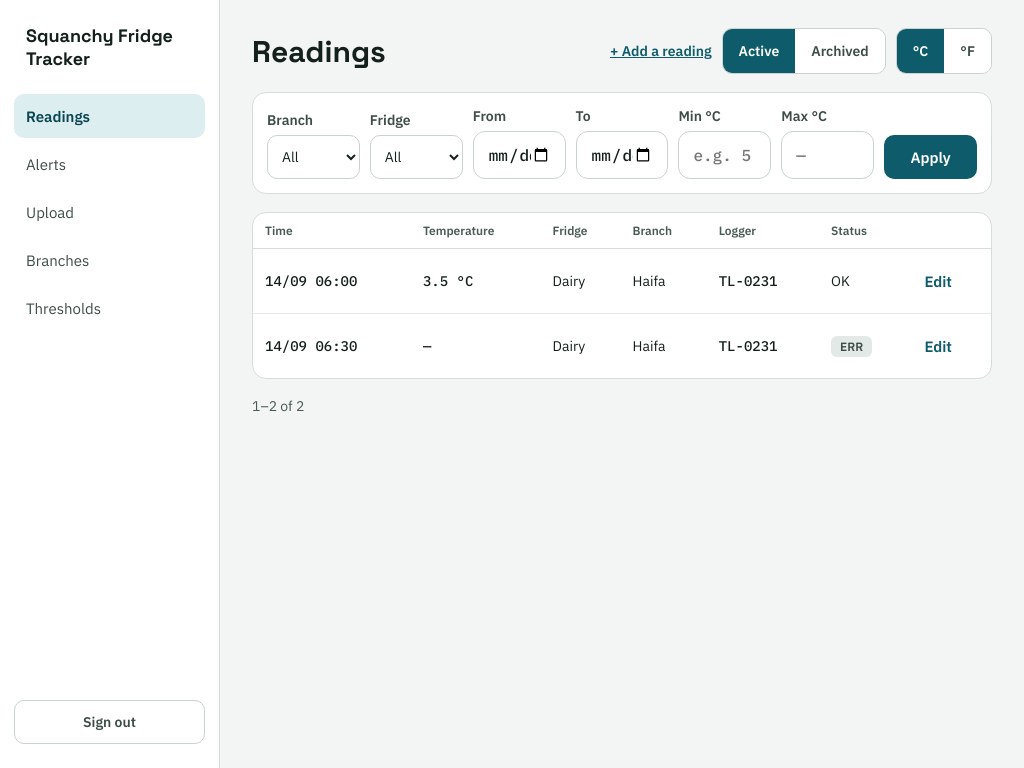
Scenario: ReadingsPage paging › links to adding a reading
The width and height of the screenshot is (1024, 768).
Click the link "+ Add a reading" at (661, 51), box x1=610 y1=42 x2=712 y2=60
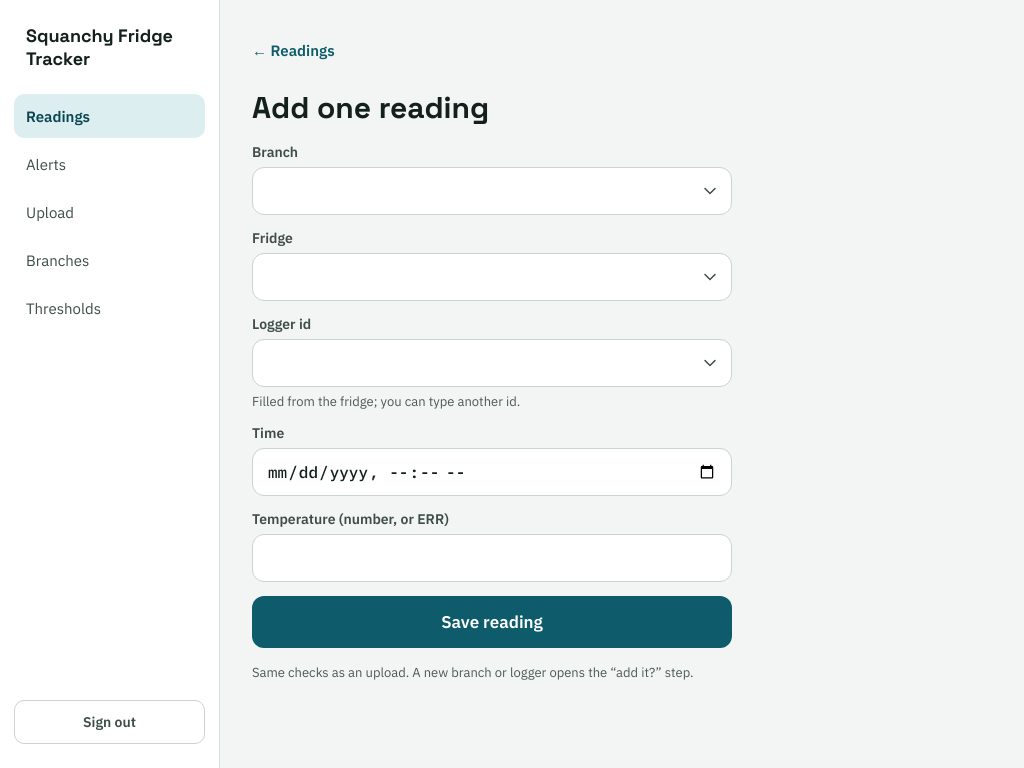
Expected: the heading "Add one reading" is shown, x1=252 y1=88 x2=489 y2=127
